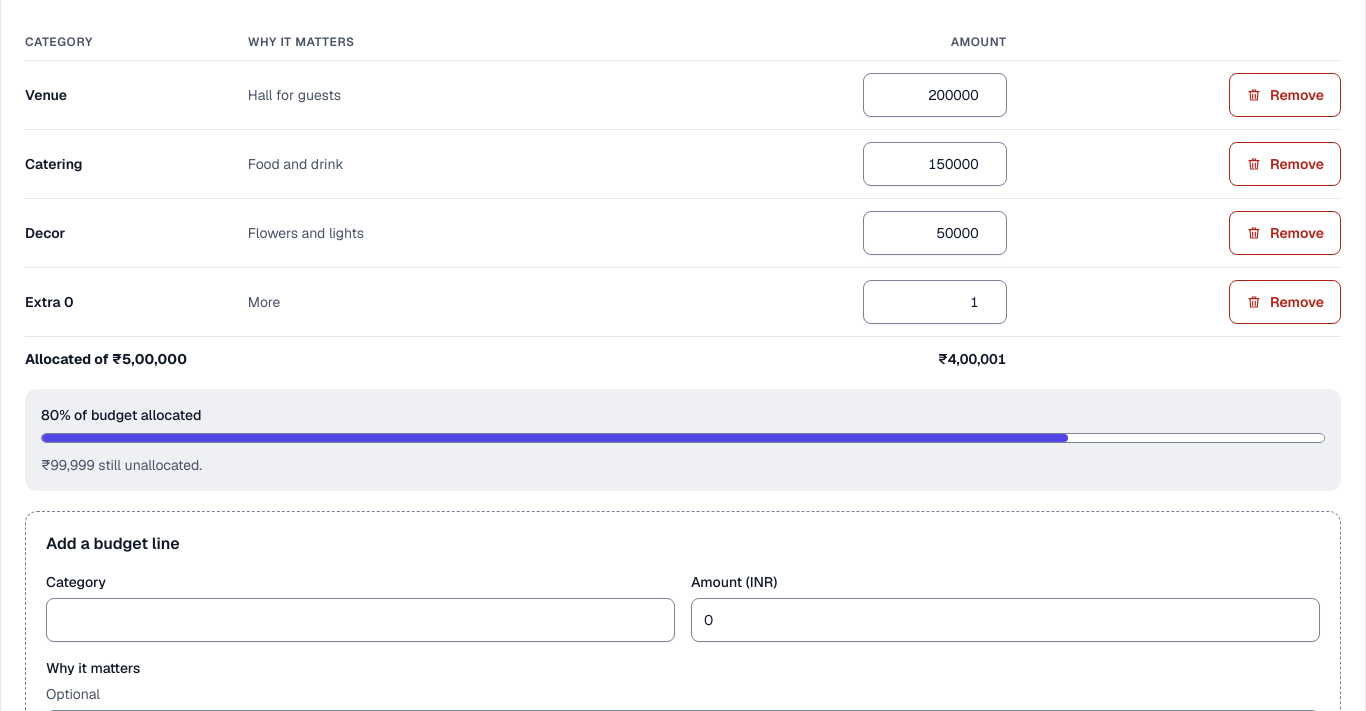
Test case: BudgetTable (remove line) › moves focus to the Add line button after removal
Click the button with aria-label "Remove Decor" at (1285, 233), box [1229,211,1341,255]
(page scrolled)
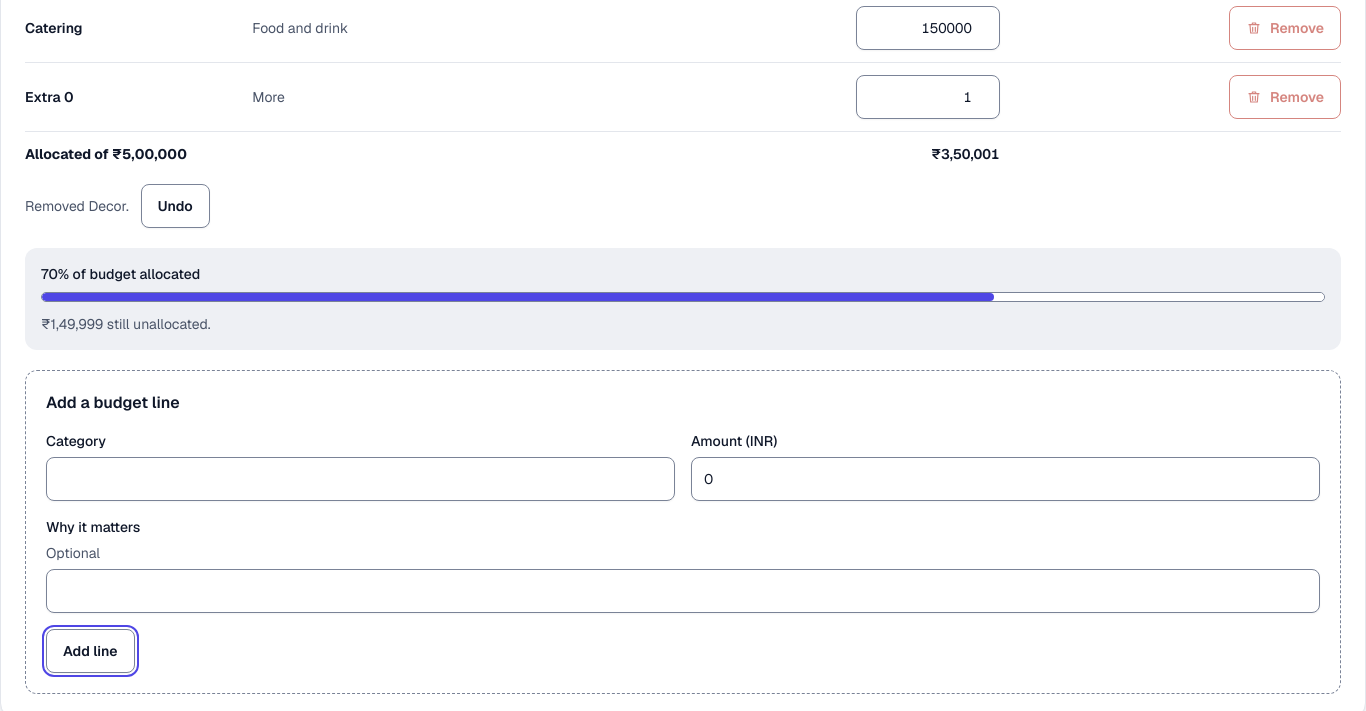
Expected: the table "Remove Decor" is gone
